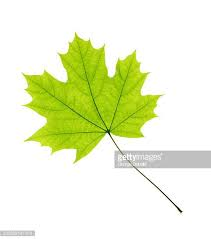leaf: (21, 31, 158, 162)
